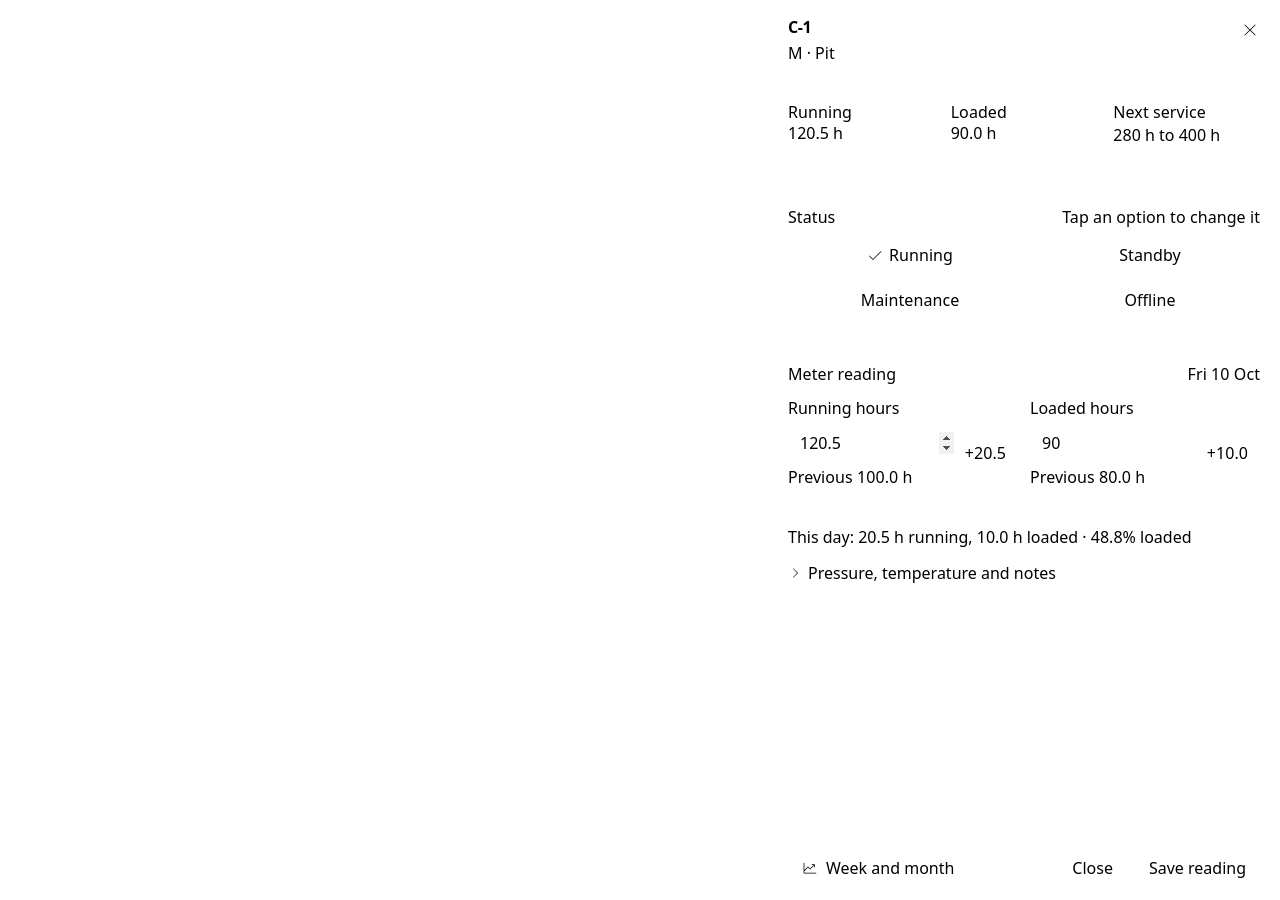
compressor motion (reduced motion) › shows the drawer day-line through Presence as the reading is typed
The image size is (1280, 900).
Clear the number field labelled "Running hours" at (903, 443), box [788,425,1018,461]
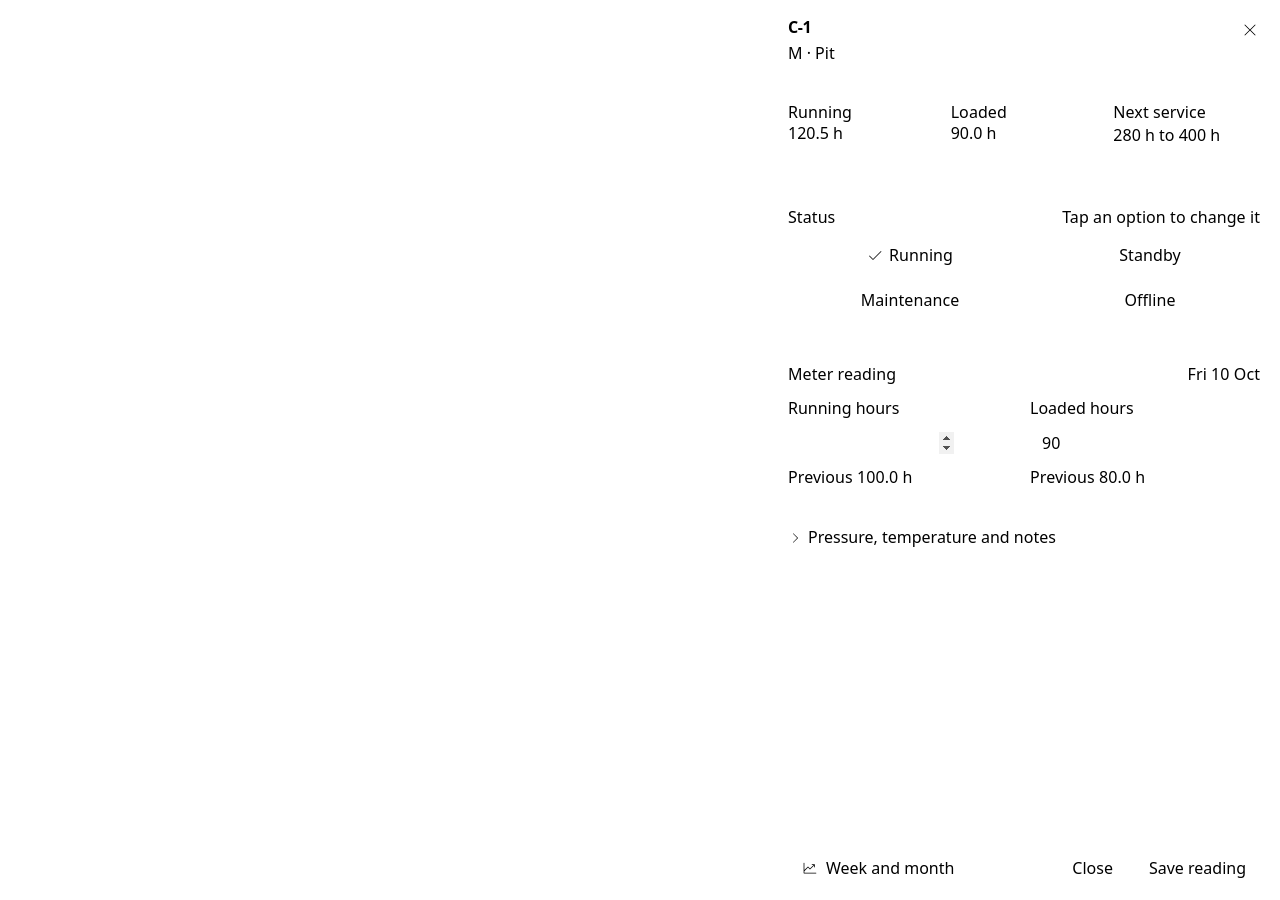
Expected: the text "This day:" is gone
Type "121" into the number field labelled "Running hours" at (903, 443), box [788,425,1018,461]
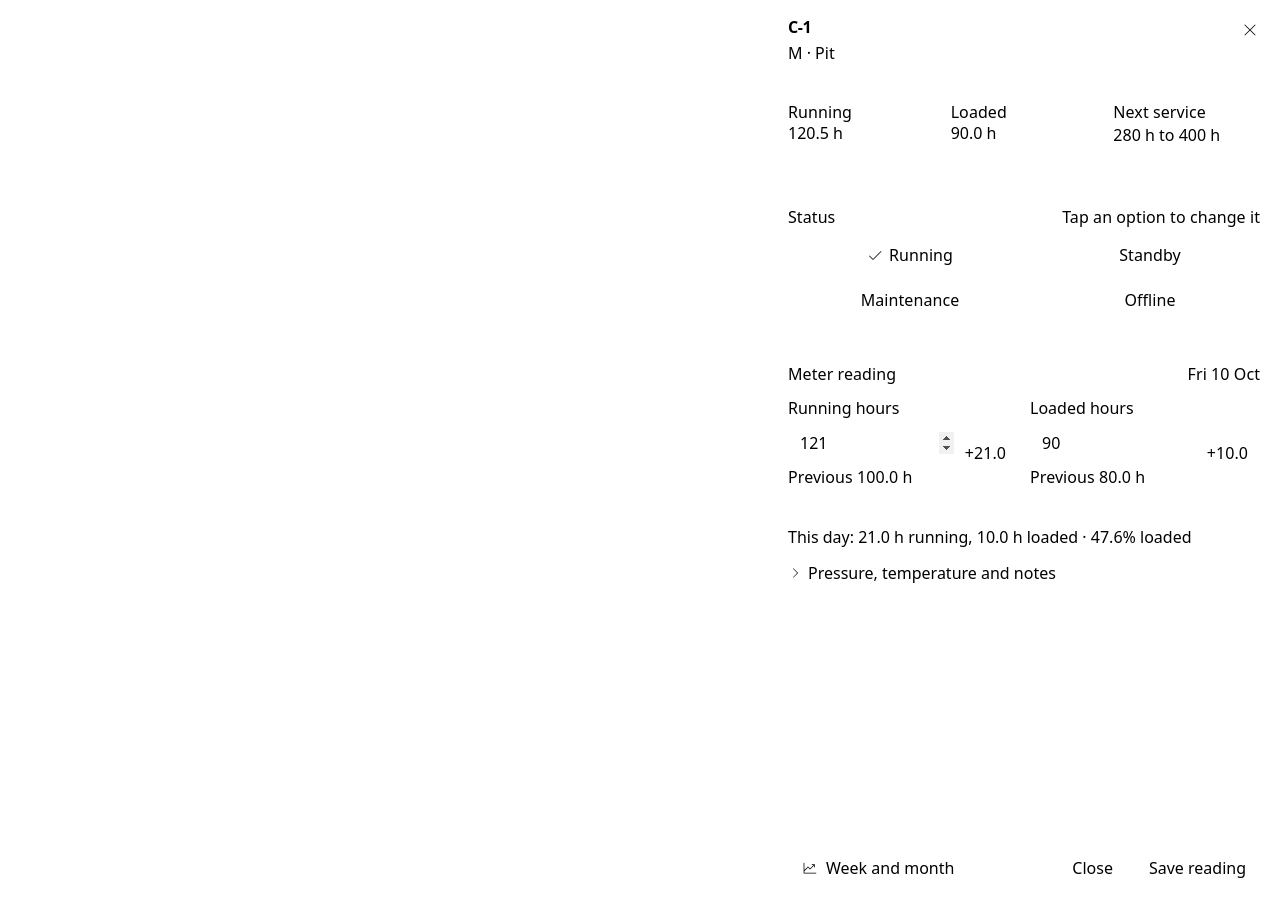
Expected: the text "This day: 21.0 h running, 10.0 h loaded · 47.6% loaded" is shown, [788,526,1260,550]
